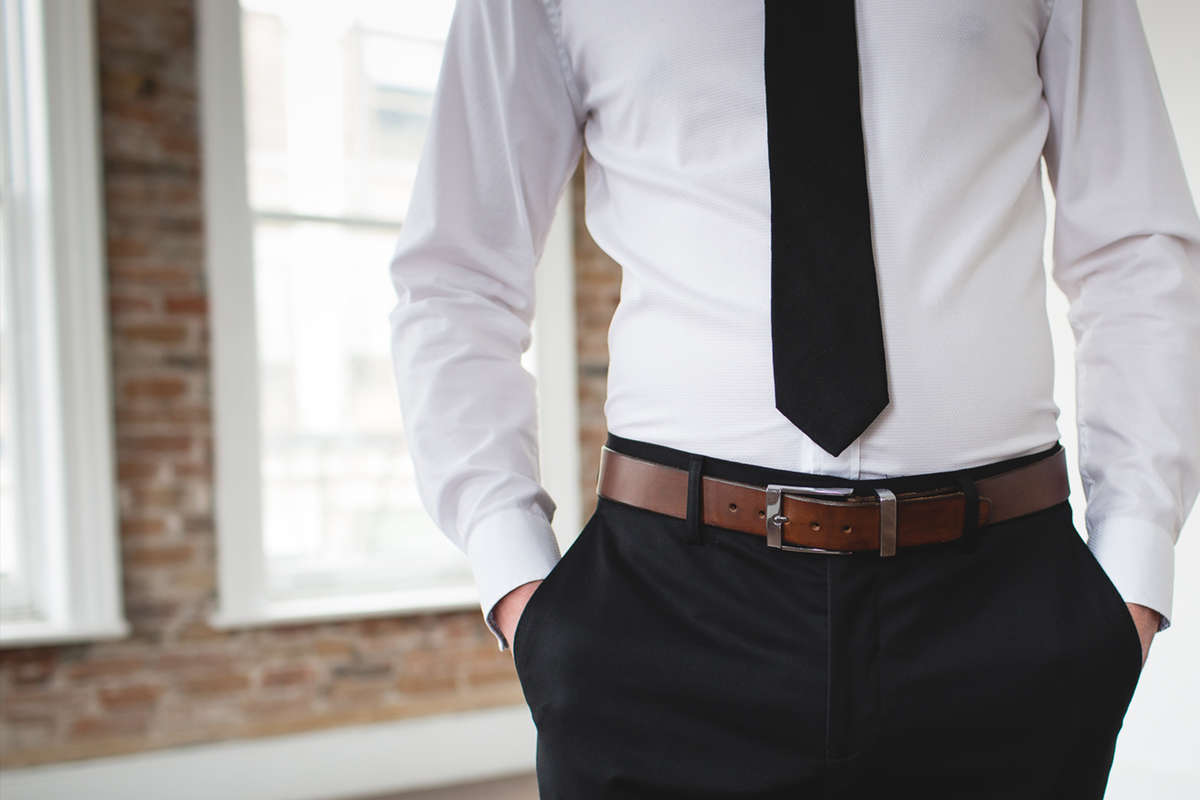F_belt: (582, 433, 1095, 561)
F_shirt: (383, 1, 1198, 651)
F_tie: (740, 1, 917, 458)
